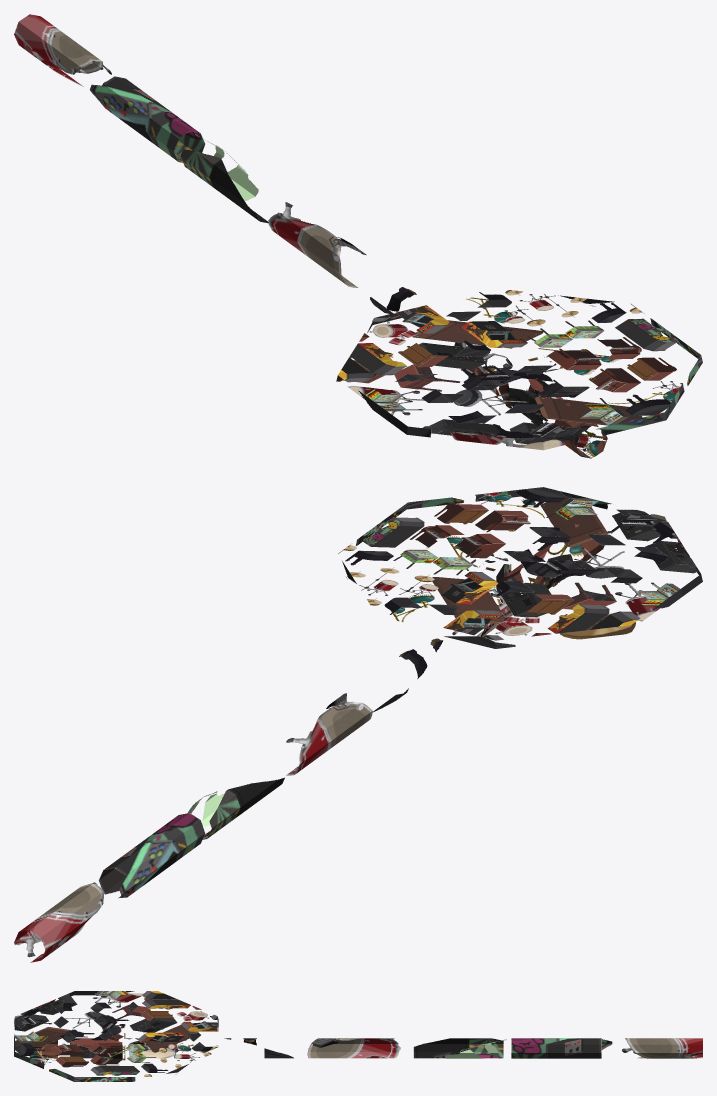
3 views of the same model, one above another, from view 1: azimuth 30°, elevation 25°; view 2: azimuth 150°, elevation 25°; view 3: azimuth 270°, elevation 25° (orthographic). The views are drawn at different scales.
Bounding box in the file's own units: 0.5656 × 0.0844 × 1.9.
